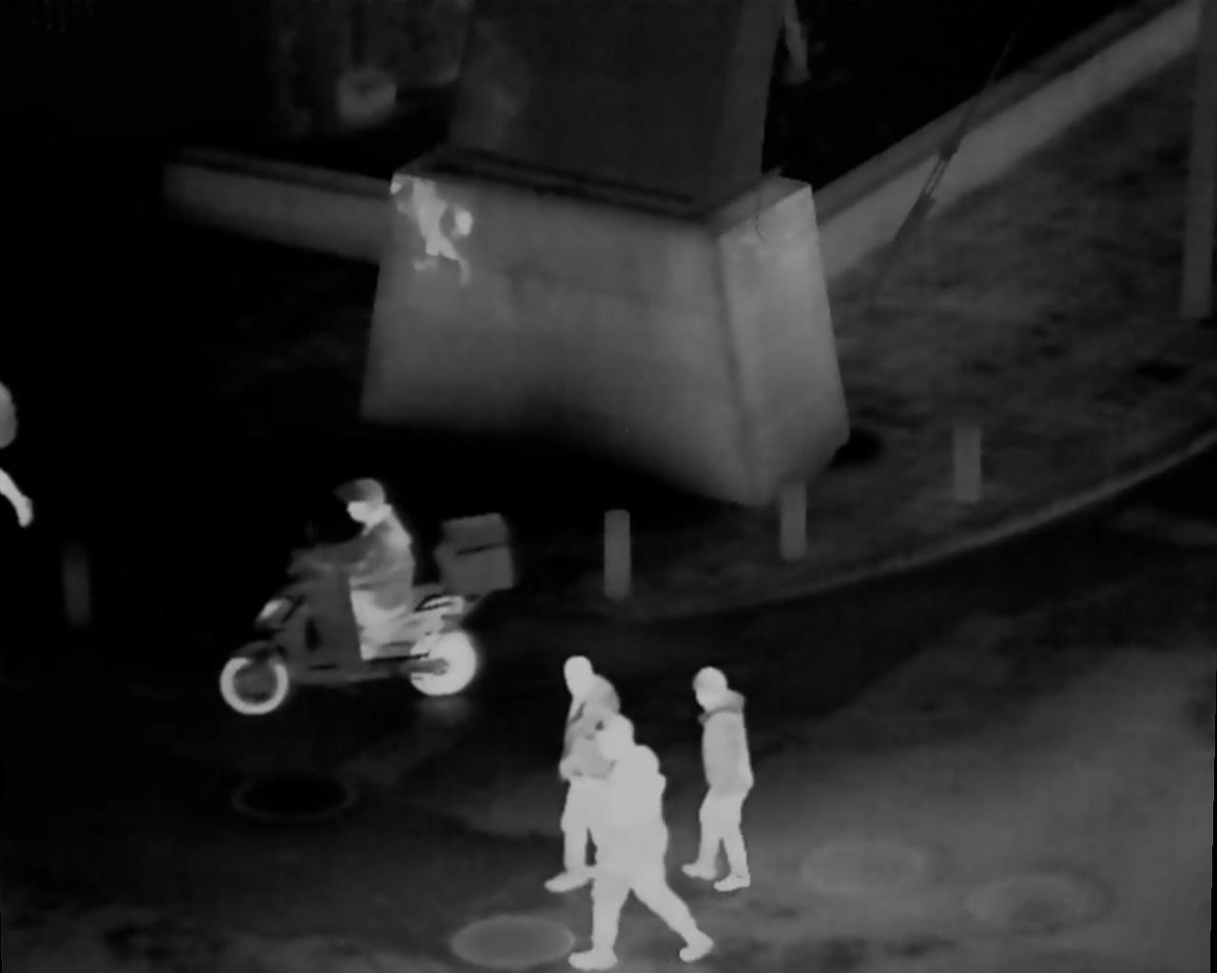person: (573, 715, 717, 966), (342, 478, 426, 706), (555, 652, 629, 889), (686, 668, 753, 898)
